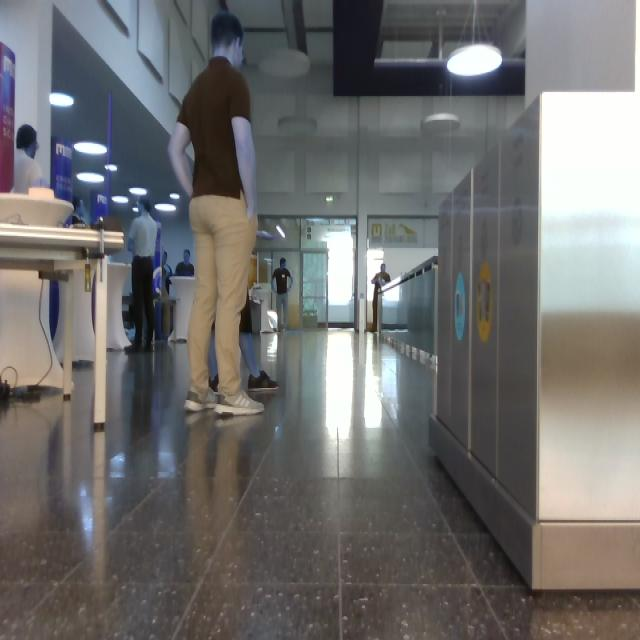door: (302, 218, 356, 326)
light bulb: (448, 1, 502, 76), (448, 44, 503, 77), (423, 113, 459, 137), (50, 93, 74, 108), (76, 173, 104, 182), (155, 204, 176, 212), (129, 188, 148, 196), (112, 197, 129, 204), (277, 225, 285, 238), (106, 164, 118, 170), (171, 194, 179, 200)
person: (169, 14, 263, 414), (128, 201, 158, 352), (13, 125, 47, 194), (272, 258, 293, 332), (176, 250, 194, 276)
table: (1, 189, 124, 430), (1, 270, 60, 388)
tiled floor: (1, 333, 640, 640)
trash bin: (431, 93, 640, 589)
